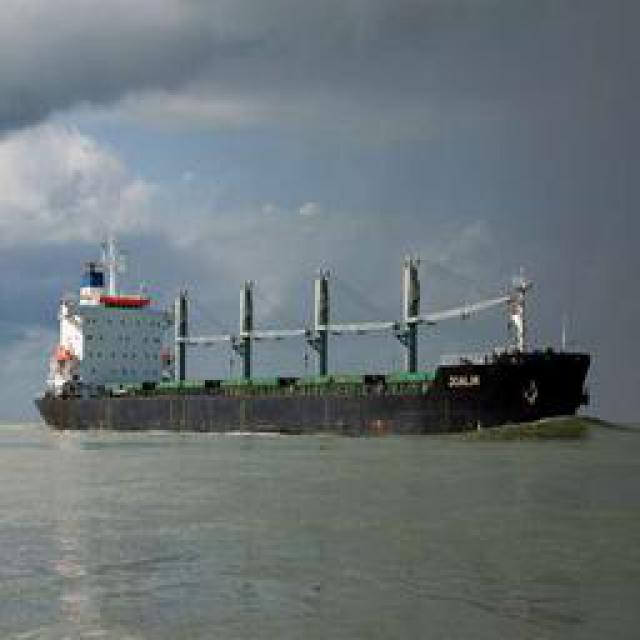Ship: (29, 231, 607, 452)
